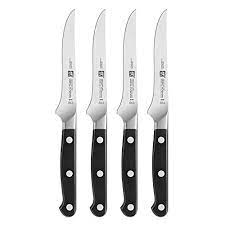knife: (114, 7, 139, 218), (53, 7, 78, 217), (85, 8, 109, 218), (146, 7, 170, 217)
